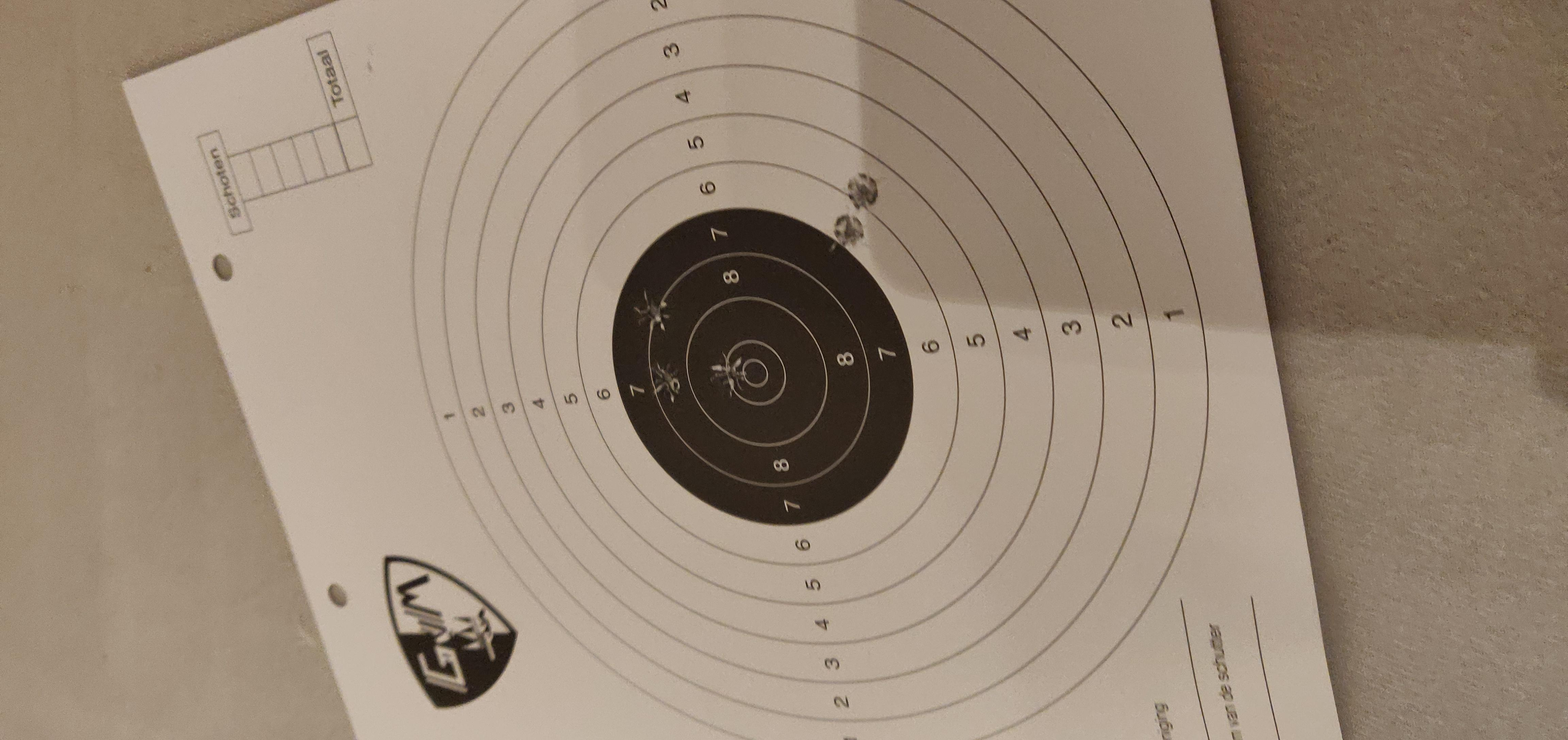hole: (852, 298, 958, 317), (720, 334, 822, 353), (1117, 398, 1204, 416), (711, 305, 804, 321), (1030, 391, 1117, 408)
